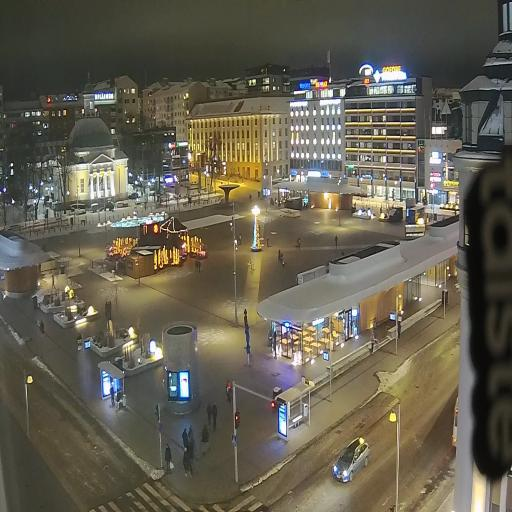Bus: (453, 398, 457, 446)
